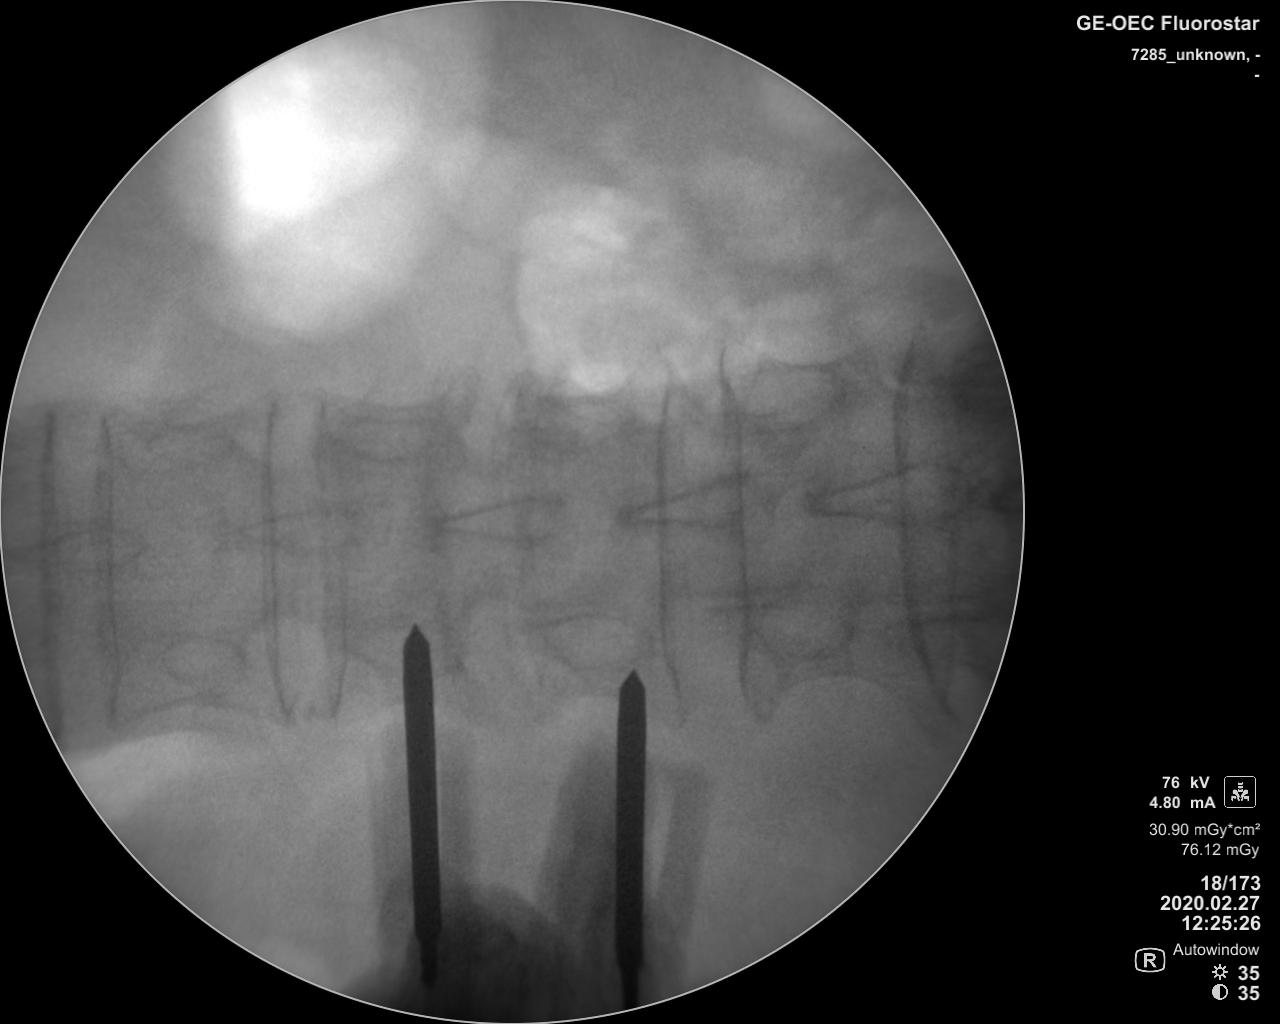eyes: (752, 586, 855, 662), (735, 362, 844, 429), (352, 620, 463, 681), (542, 612, 654, 668), (157, 630, 250, 691), (328, 410, 430, 463), (542, 396, 630, 453), (147, 419, 238, 474)
line: (887, 328, 936, 720), (315, 379, 352, 726), (726, 357, 761, 730), (654, 368, 690, 721), (258, 394, 292, 730), (94, 408, 124, 734), (41, 409, 69, 727)
nose: (800, 460, 979, 528), (611, 470, 772, 539), (421, 492, 576, 550), (215, 501, 357, 558), (11, 523, 152, 572)
